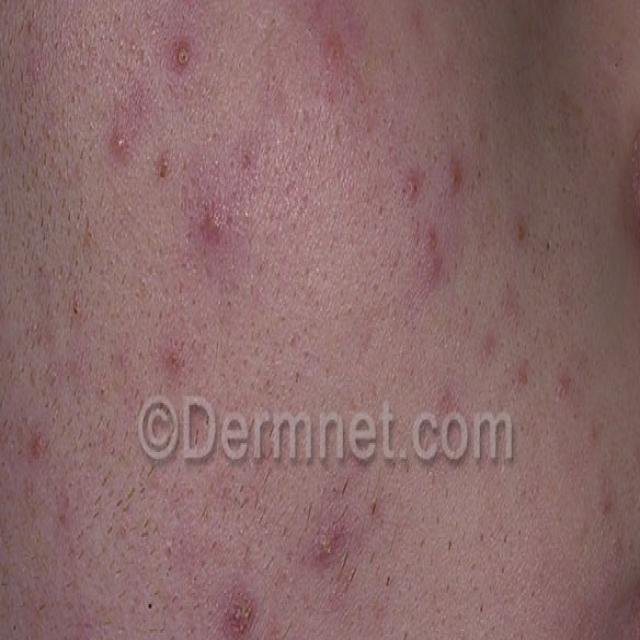Acne: (381, 110, 640, 546), (123, 23, 243, 222), (225, 575, 258, 640)
